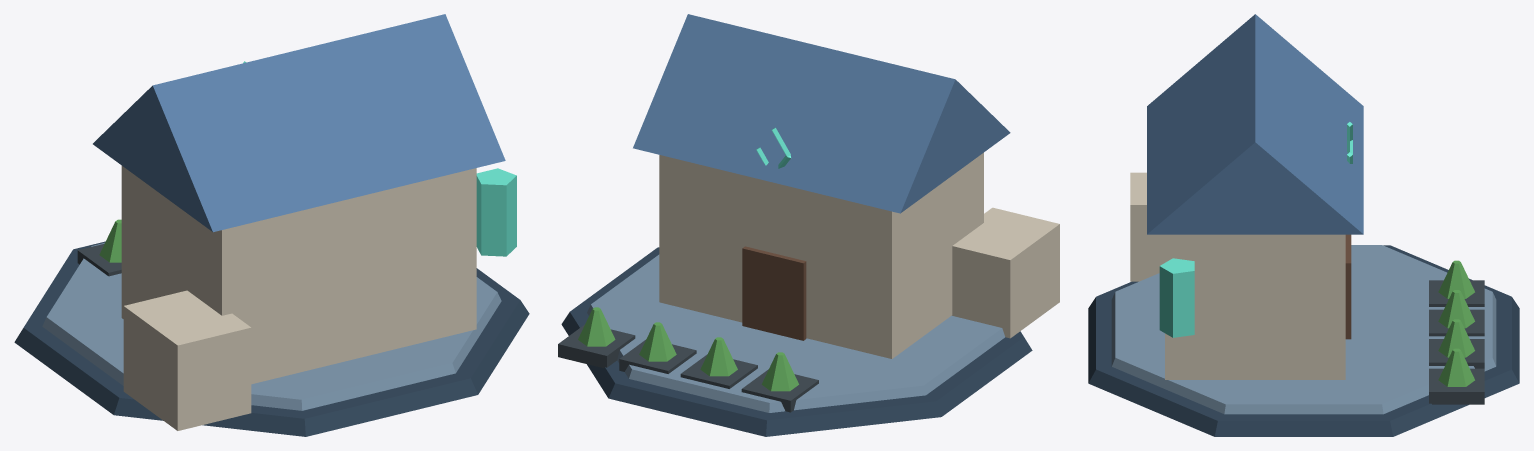
The model's file is Hospital_3.fbx.
The picture shows the model from 3 angles, left to right: view 1: azimuth 30°, elevation 25°; view 2: azimuth 150°, elevation 25°; view 3: azimuth 270°, elevation 25°; orthographic projection. The views are drawn at different scales.
Parts seen in each view (by area): view 1: Hospital_3; view 2: Hospital_3; view 3: Hospital_3.
Part boxes in pixels (x1,y1,x2,y2): Hospital_3: [14, 14, 529, 436]; Hospital_3: [558, 14, 1059, 436]; Hospital_3: [1088, 14, 1519, 436].
Size of the model in its own units: 2.7 by 1.85 by 2.7.
